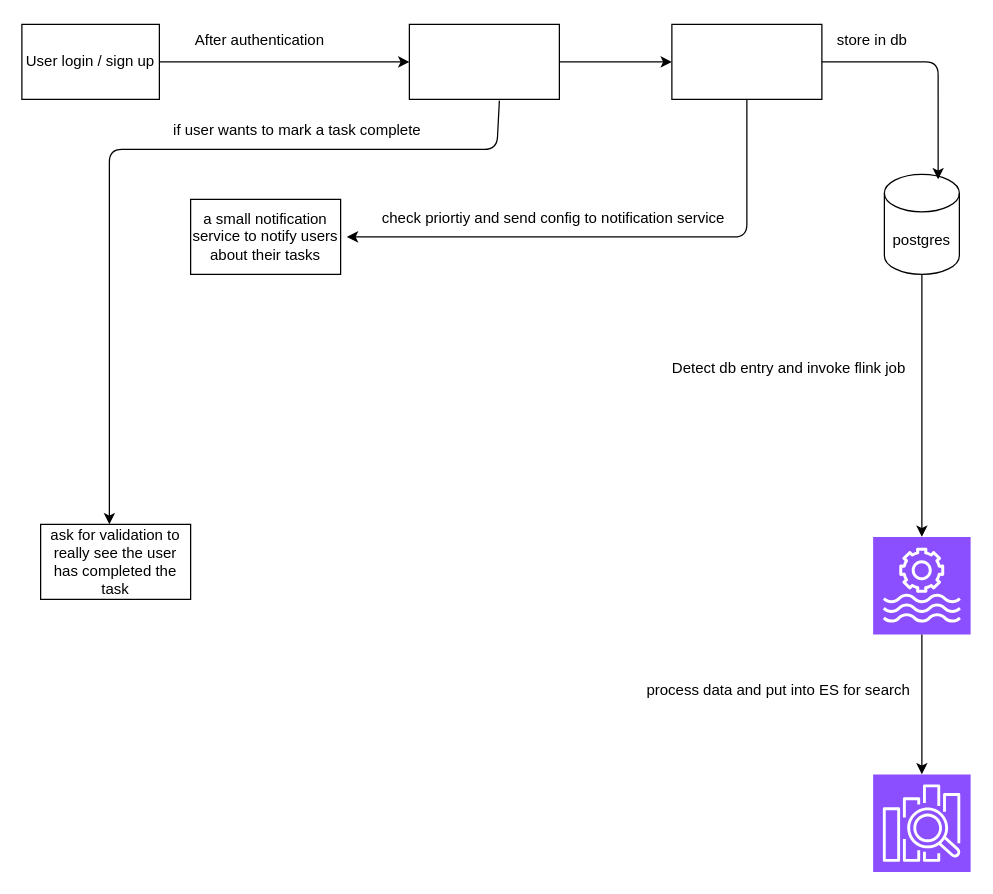
Some shapes in this 993 by 894 pixel diagram are drawn without their labels. Each missing label, with the centre of its shape:
Display user profile: point (483, 61)
user adds tasks on priority: point (746, 61)
